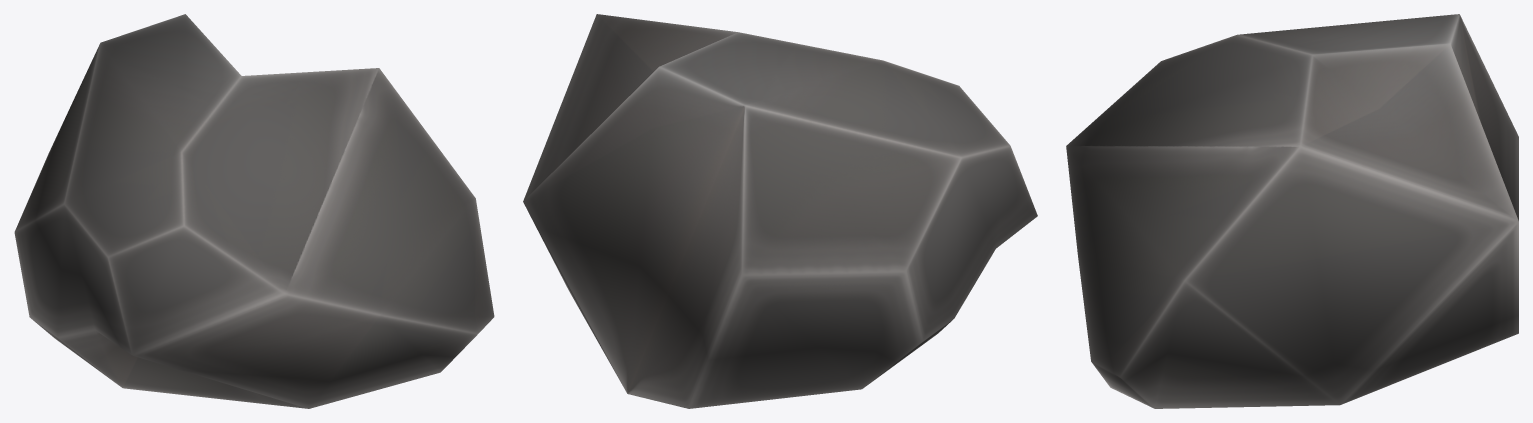
File: Rock_02.gltf
3 views of the same model, side by side, from view 1: azimuth 30°, elevation 25°; view 2: azimuth 150°, elevation 25°; view 3: azimuth 270°, elevation 25° (orthographic). The views are drawn at different scales.
Parts seen in each view (by area): view 1: Rock_2; view 2: Rock_2; view 3: Rock_2.
Part boxes in pixels (x1,y1,x2,y2): Rock_2: [14, 14, 494, 408]; Rock_2: [523, 14, 1037, 408]; Rock_2: [1066, 14, 1518, 408].
Size of the model in its own units: 4.35 by 3.06 by 4.31.
Materials: 1 (1 with a texture image).
